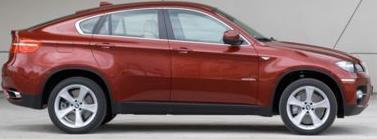backlight: (7, 36, 45, 54)
headlight: (332, 57, 366, 76)
side_glass: (73, 10, 250, 48)
